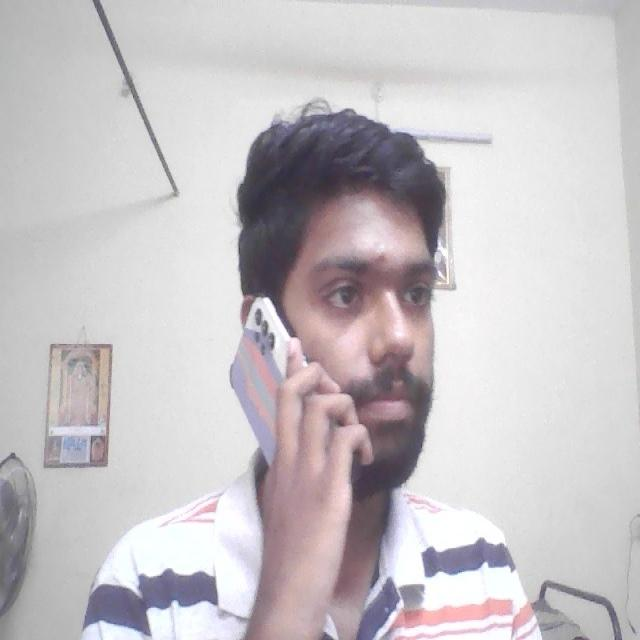Mobile: (217, 289, 317, 461)
